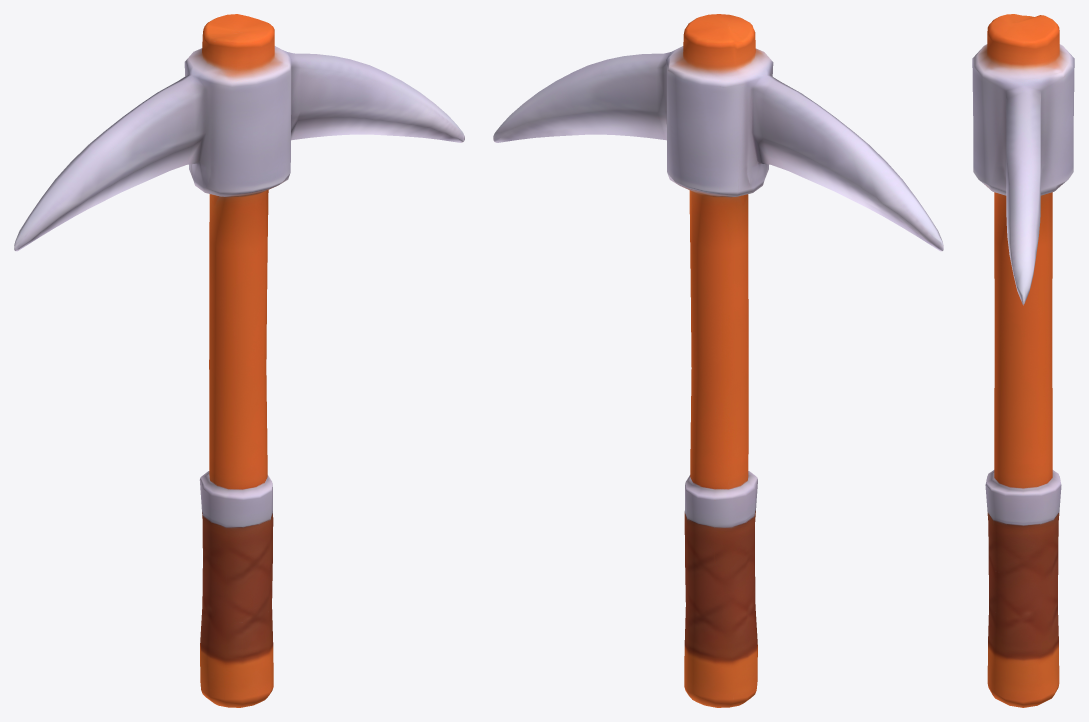
Rendered from pick-1.glb.
3 renders of one model, left to right at view 1: azimuth 30°, elevation 25°; view 2: azimuth 150°, elevation 25°; view 3: azimuth 270°, elevation 25°, orthographic.
Parts seen in each view (by area): view 1: pick-1; view 2: pick-1; view 3: pick-1.
Boxes of the visible parts, left/top/right/bottom form: pick-1: left=14, top=14, right=464, bottom=707; pick-1: left=493, top=14, right=943, bottom=707; pick-1: left=972, top=14, right=1074, bottom=707.
Size of the model in its own units: 0.6997 by 0.9995 by 0.1372.
1 material, 1 textured.
